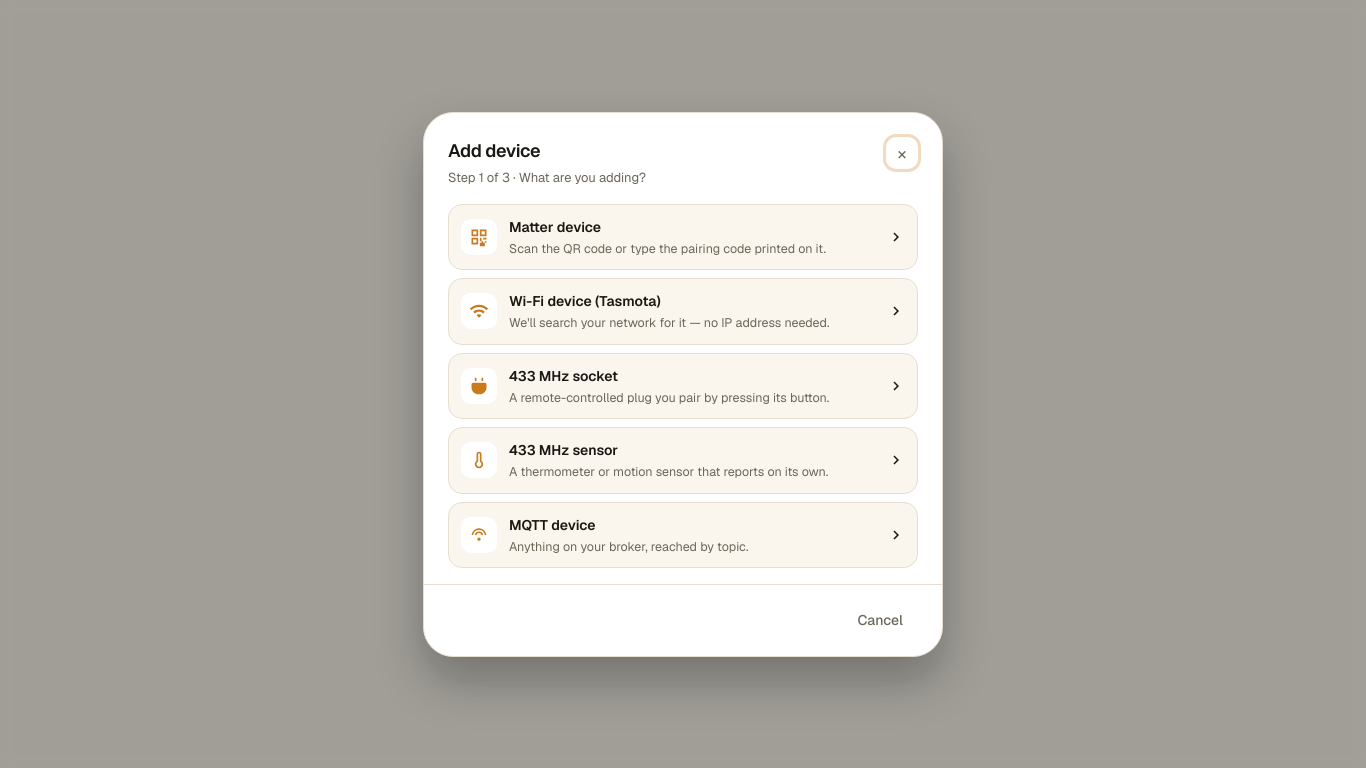
Test: the add-device wizard's first question › can go back from discovery to the method list
Click the button "MQTT device Anything on your broker, reached by topic.".
click(683, 534)  # box [448,501,918,568]
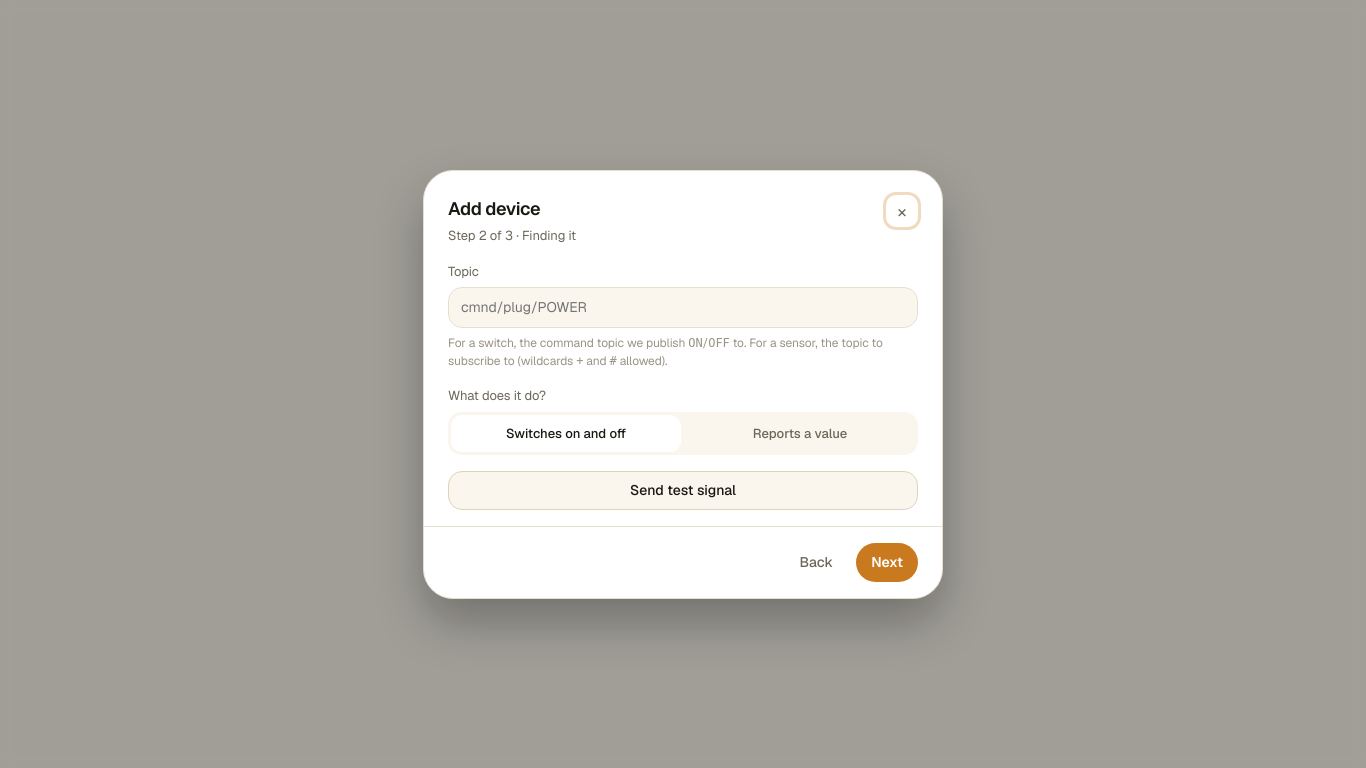
Expected: the text "Step 2 of 3 · Finding it" is shown, [448,226,576,245]
Click the button "Back".
click(816, 562)  # box [784,542,848,582]
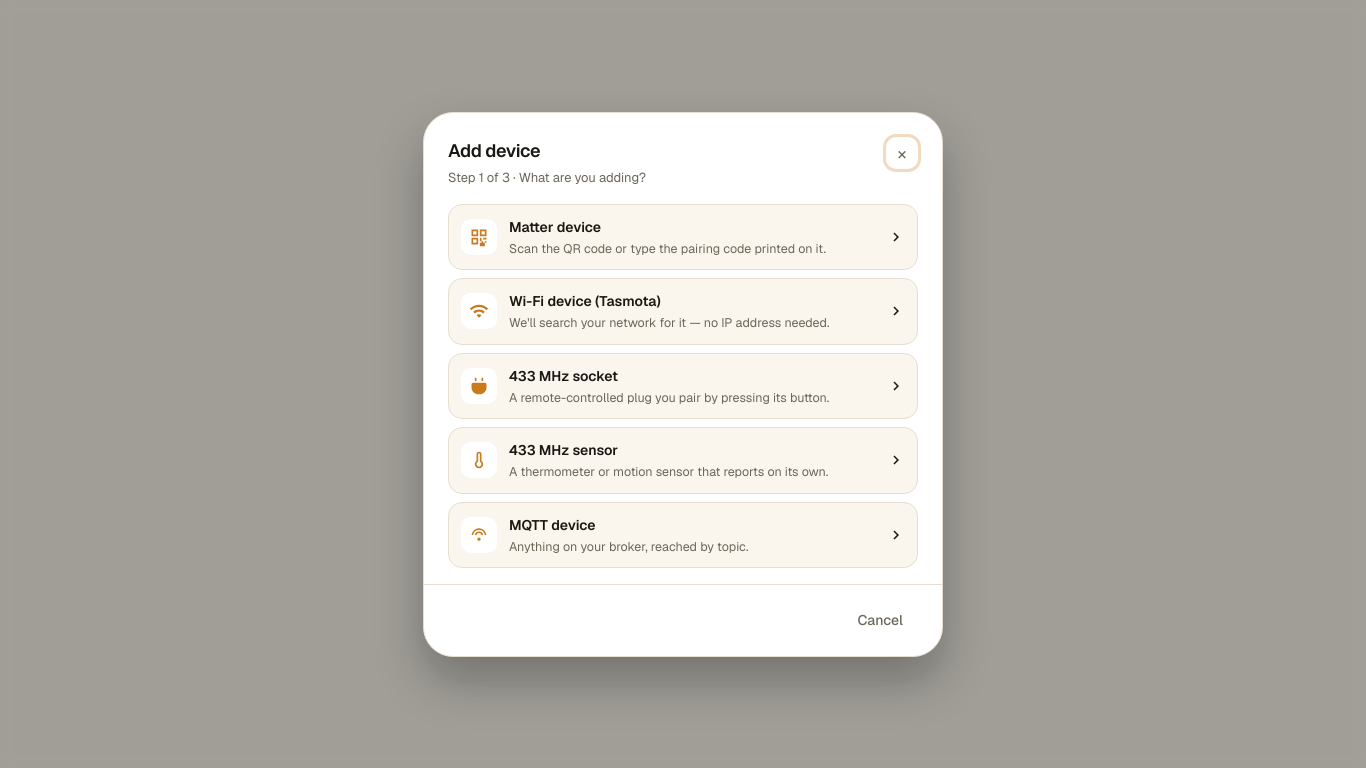
Expected: the text "Step 1 of 3 · What are you adding?" is shown, [448,168,646,187]
